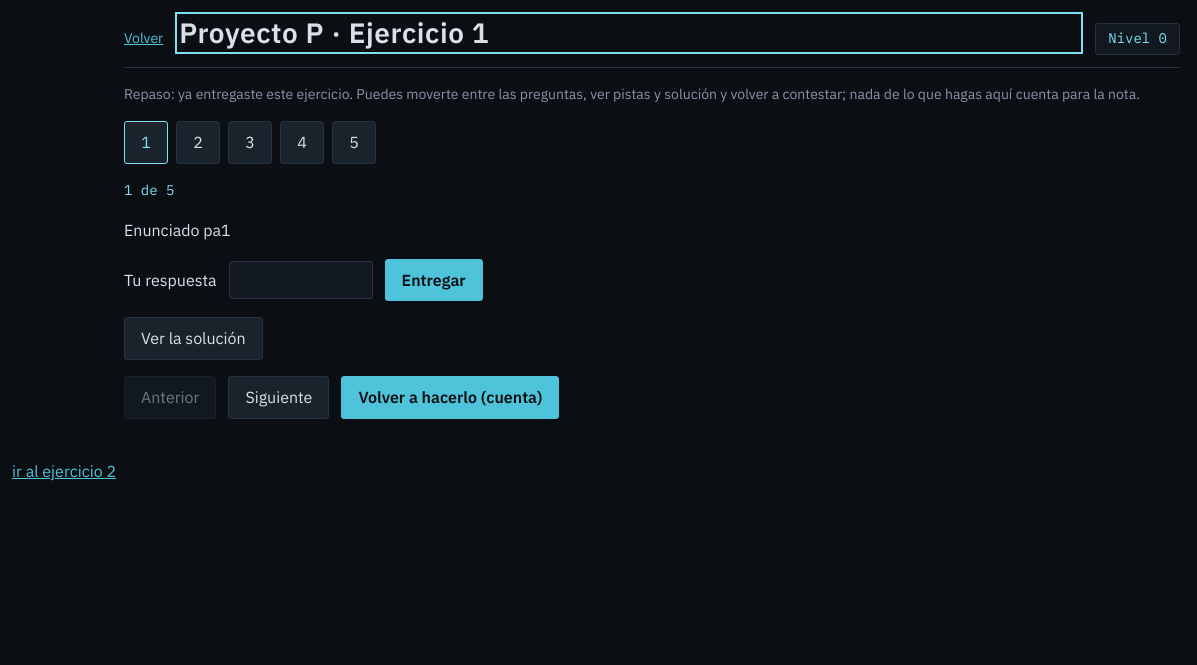
Test: Repaso de un ejercicio ya entregado › salta a cualquier pregunta y enseña explicación y solución bajo demanda
Expected: the heading "Proyecto P · Ejercicio 1" is shown, [179,14,489,51]
Step 1. Click the button named "Ir a la pregunta 4" → click(302, 143), box [280,121,324,164]
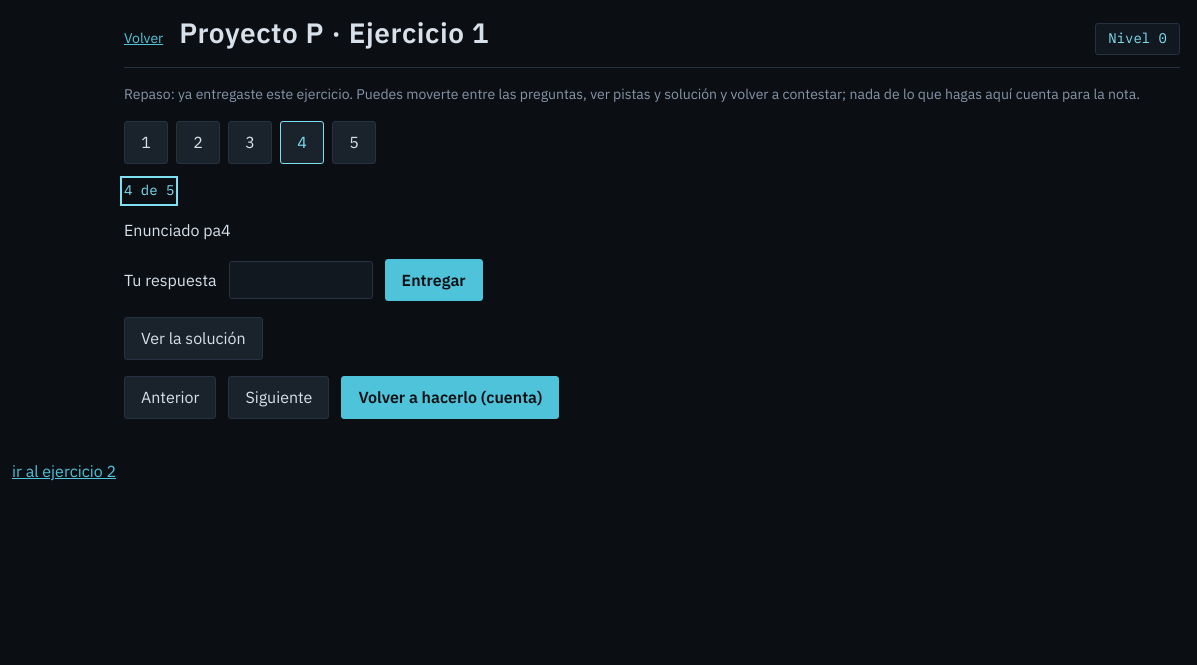
Expected: the text "SOLUCION pa4" is not shown
Expected: the text "Enunciado pa4" is shown, [124,220,231,240]
Expected: the text "4 de 5" is shown, [124,180,174,202]
Step 2. Click the button "Ver la solución" → click(193, 339), box [124,318,263,360]
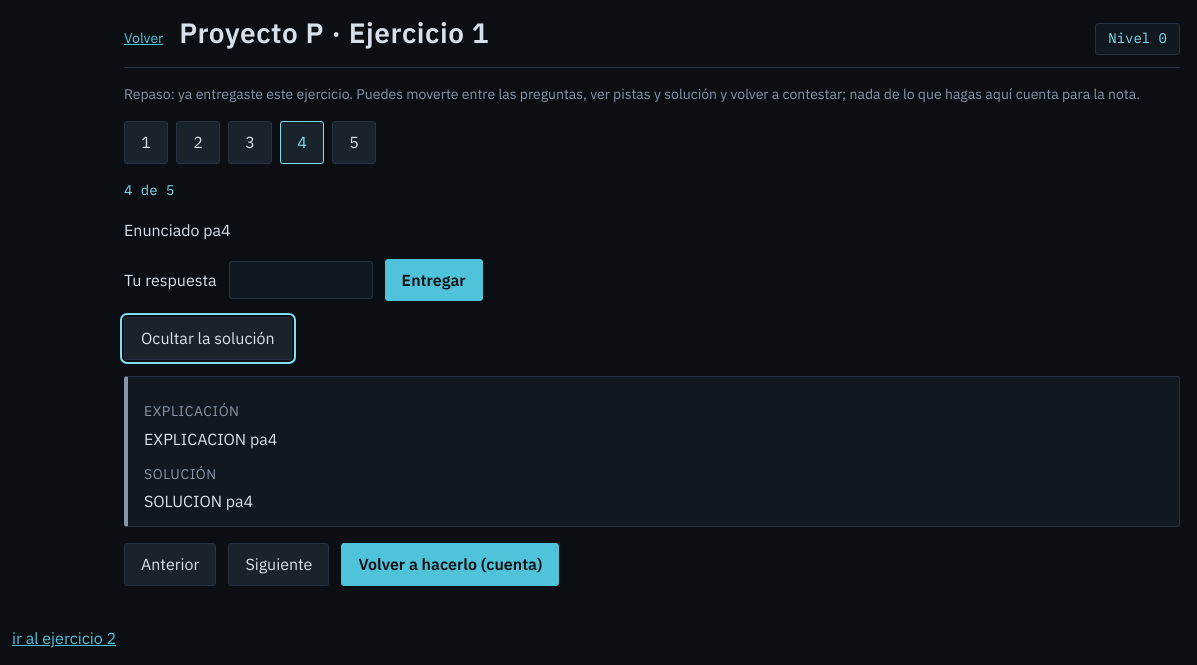
Expected: the text "EXPLICACION pa4" is shown, [144,429,277,449]
Expected: the text "SOLUCION pa4" is shown, [144,491,253,511]
Step 3. Click the button "Anterior" → click(170, 565), box [124,543,216,586]
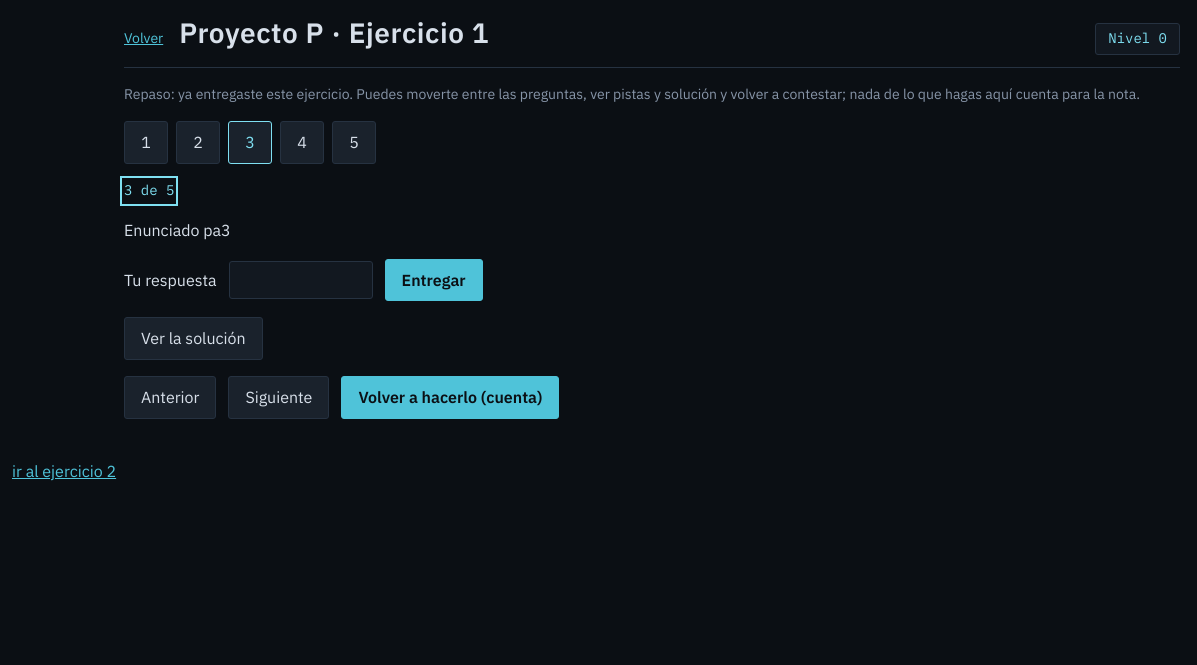
Expected: the text "Enunciado pa3" is shown, [124,220,231,240]
